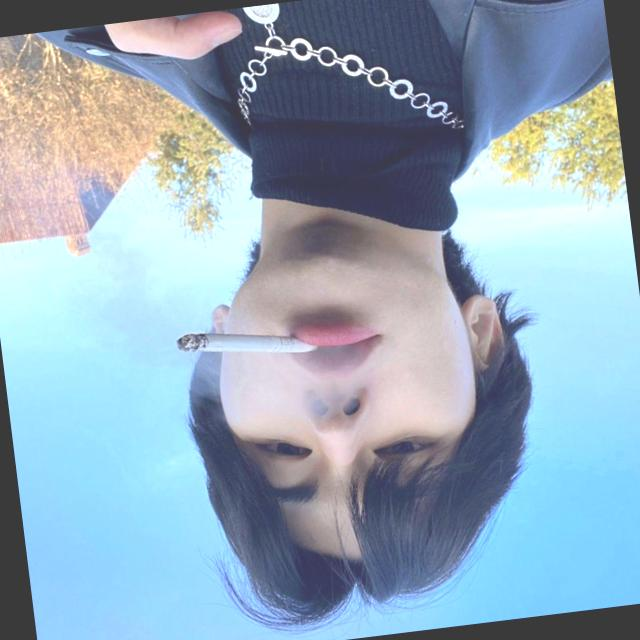cigarette: (162, 308, 323, 392)
